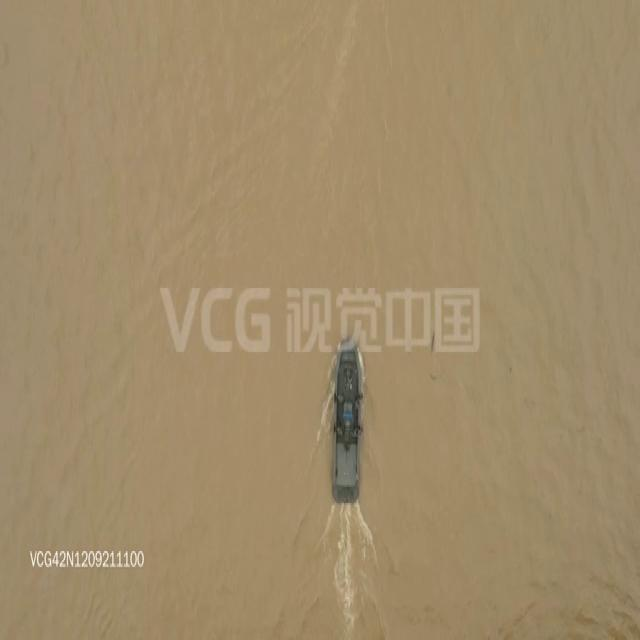houseboat: (331, 333, 364, 505)
